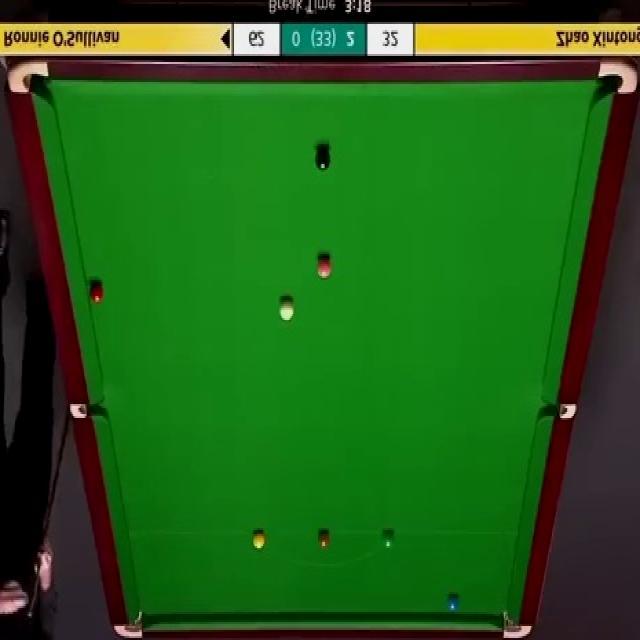black-ball: (315, 147, 329, 173)
blue-ball: (446, 594, 460, 613)
brown-ball: (317, 531, 330, 548)
green-ball: (382, 528, 396, 552)
pink-ball: (315, 250, 333, 281)
red-ball: (89, 282, 105, 305)
white-ball: (278, 292, 296, 318)
yellow-ball: (252, 530, 266, 551)
